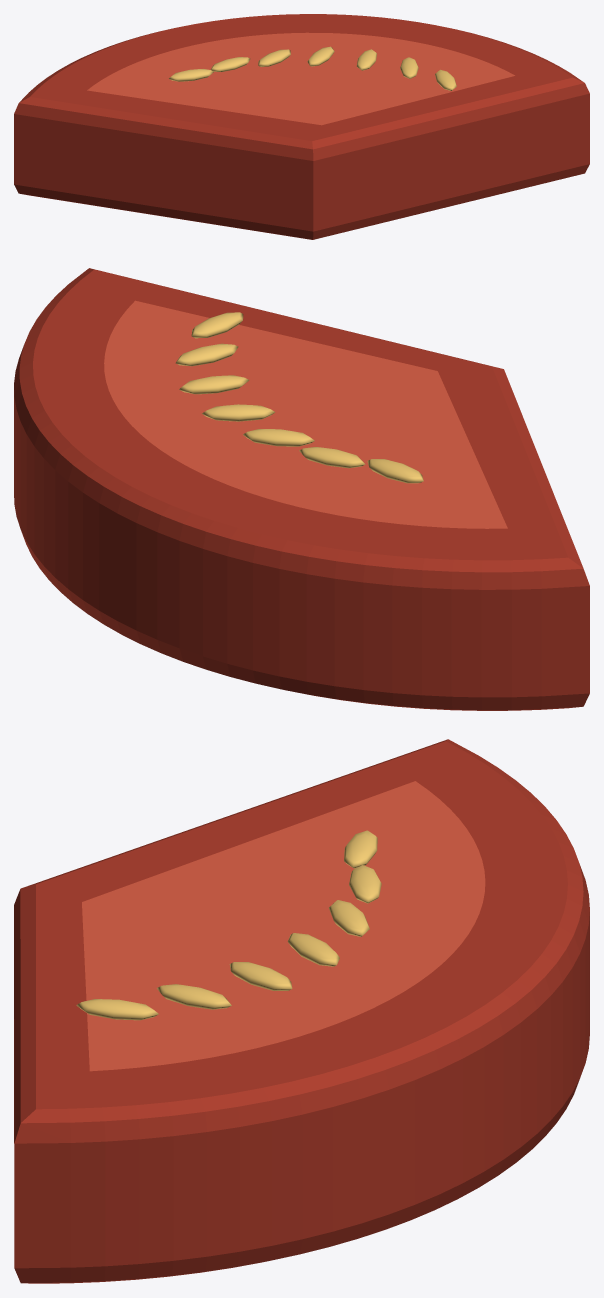
The model's file is tomato.glb.
3 renders of one model, top to bottom at view 1: azimuth 30°, elevation 25°; view 2: azimuth 150°, elevation 25°; view 3: azimuth 270°, elevation 25°, orthographic. The views are drawn at different scales.
Size of the model in its own units: 0.5039 by 0.1155 by 0.314.
